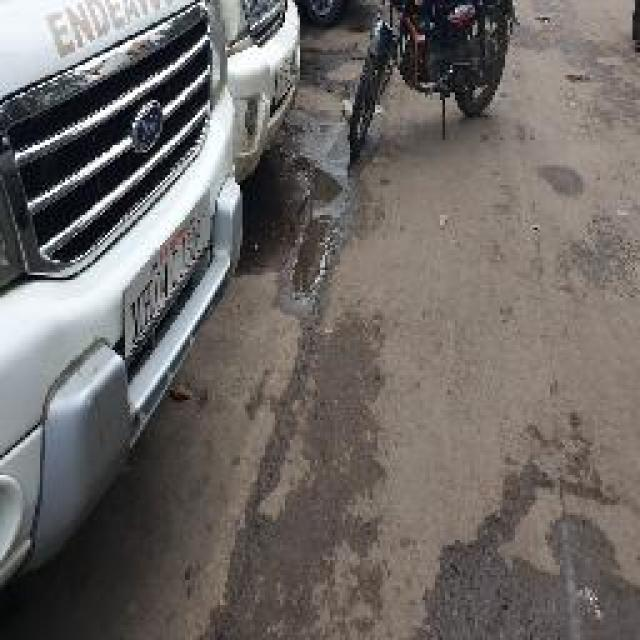stagnation: (266, 176, 358, 297)
